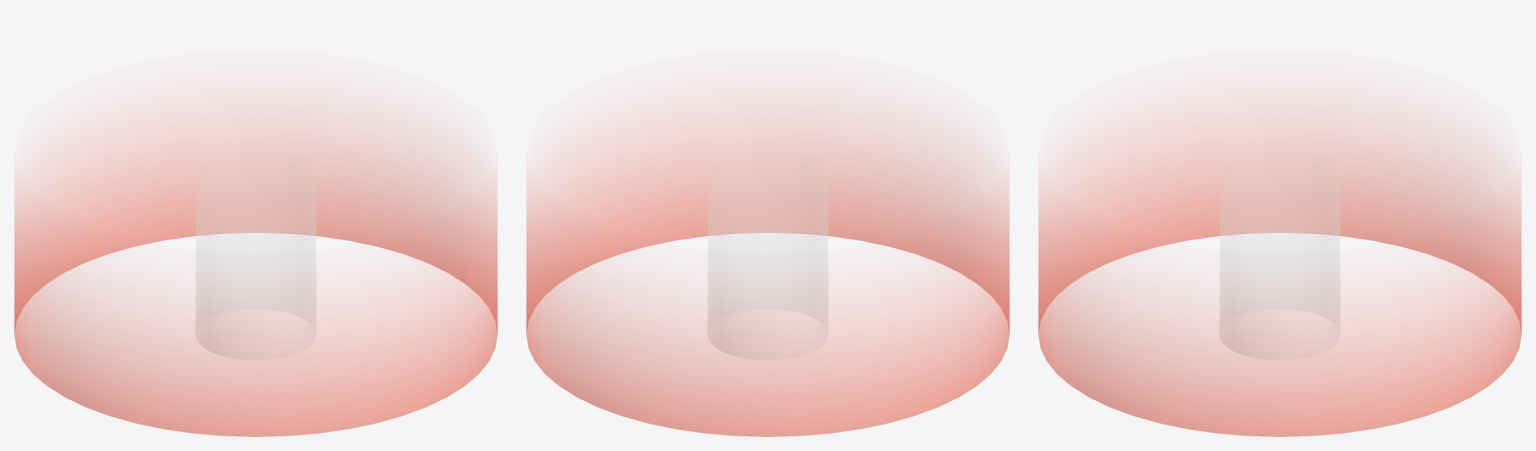
Rendered from ss_pillar_red.glb.
3 renders of one model, left to right at view 1: azimuth 30°, elevation 25°; view 2: azimuth 150°, elevation 25°; view 3: azimuth 270°, elevation 25°, orthographic.
Visible parts, largest first — view 1: fx_pillar_gold; view 2: fx_pillar_gold; view 3: fx_pillar_gold.
Part boxes in pixels (bbox=[...]): fx_pillar_gold: bbox=[14, 107, 497, 436]; fx_pillar_gold: bbox=[526, 107, 1009, 436]; fx_pillar_gold: bbox=[1038, 107, 1521, 436].
Size of the model in its own units: 2 by 1 by 2.
2 materials, 2 textured.
